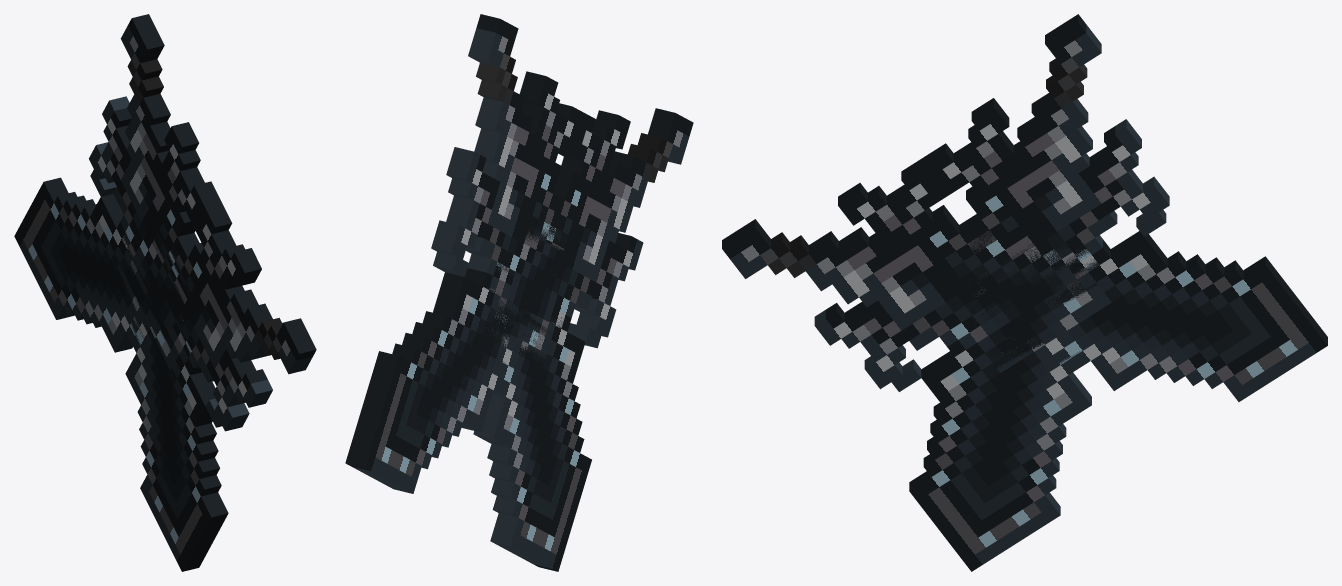
File: dragonsteel_ice_sword.glb
3 renders of one model, left to right at view 1: azimuth 30°, elevation 25°; view 2: azimuth 150°, elevation 25°; view 3: azimuth 270°, elevation 25°, orthographic. The views are drawn at different scales.
Visible parts, largest first — view 1: off__Tool_L, main__Tool_R; view 2: main__Tool_R, off__Tool_L; view 3: main__Tool_R, off__Tool_L.
Part boxes in pixels (x1,y1,x2,y2): off__Tool_L: (89, 14, 228, 571); main__Tool_R: (14, 177, 316, 431); main__Tool_R: (345, 108, 693, 493); off__Tool_L: (431, 14, 591, 571); main__Tool_R: (722, 157, 1327, 401); off__Tool_L: (909, 14, 1169, 571).
Size of the model in its own units: 0.0875 by 2.51 by 2.51.
Materials: 1 (1 with a texture image).
